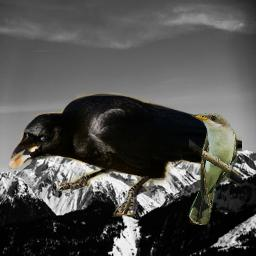Crow: (7, 92, 242, 217)
Cuckoo: (189, 113, 238, 225)
